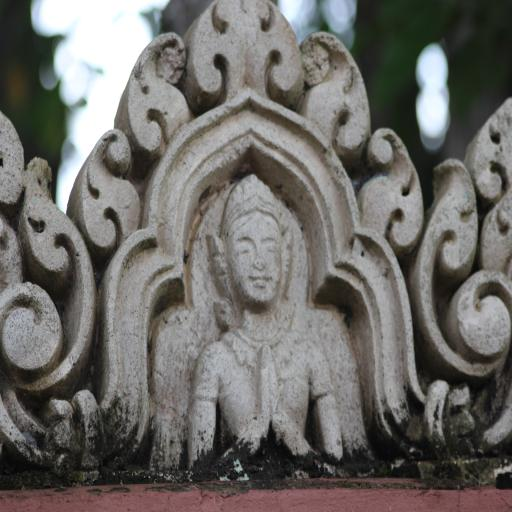lua: (0, 115, 103, 393), (428, 116, 512, 375), (186, 0, 309, 104), (304, 22, 370, 156), (353, 128, 422, 248), (124, 28, 189, 150), (82, 130, 136, 245)
than: (200, 176, 338, 476)
